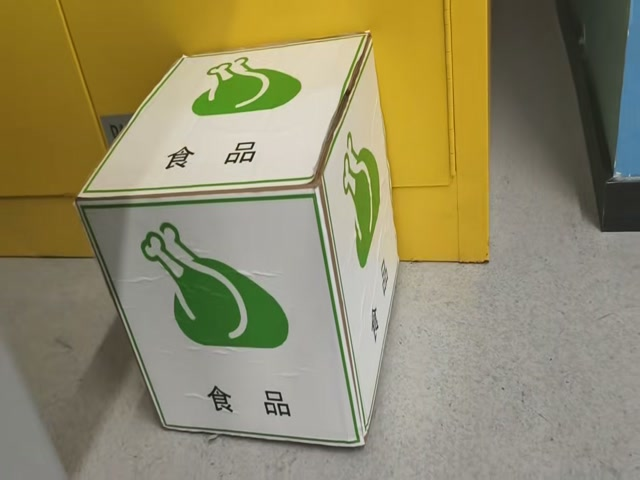Cube_food: (78, 33, 371, 198)
